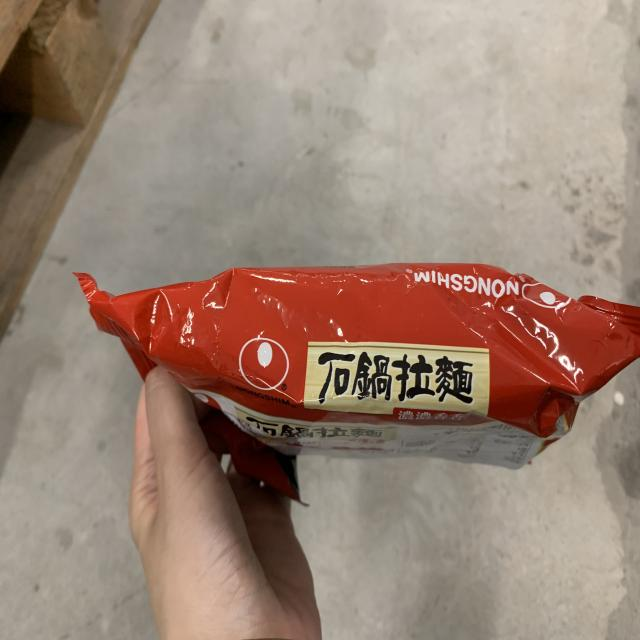object_name: (88, 268, 596, 456)
